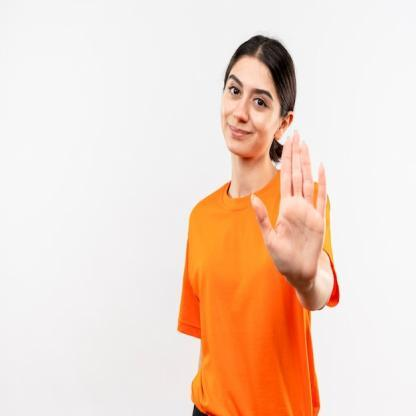stop: (249, 126, 328, 286)
